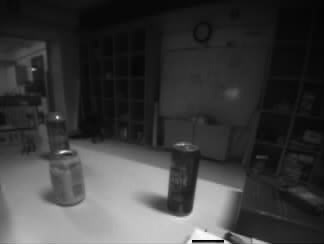Tin can: (50, 150, 85, 204), (169, 144, 196, 213), (48, 112, 68, 151)
